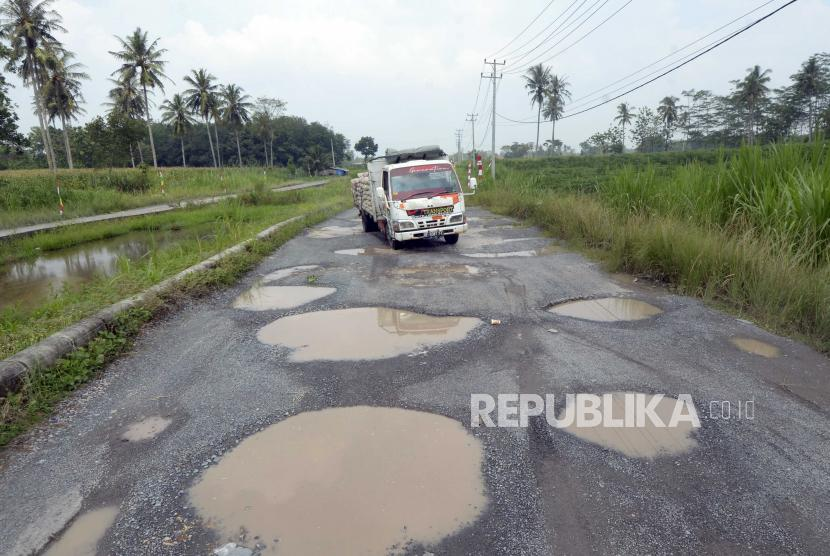Pothole: (176, 399, 523, 556), (224, 262, 495, 361), (544, 379, 726, 479), (24, 484, 131, 556), (529, 296, 693, 335), (461, 216, 570, 261), (99, 407, 180, 445), (722, 327, 796, 368), (307, 222, 380, 244), (322, 246, 374, 260)
